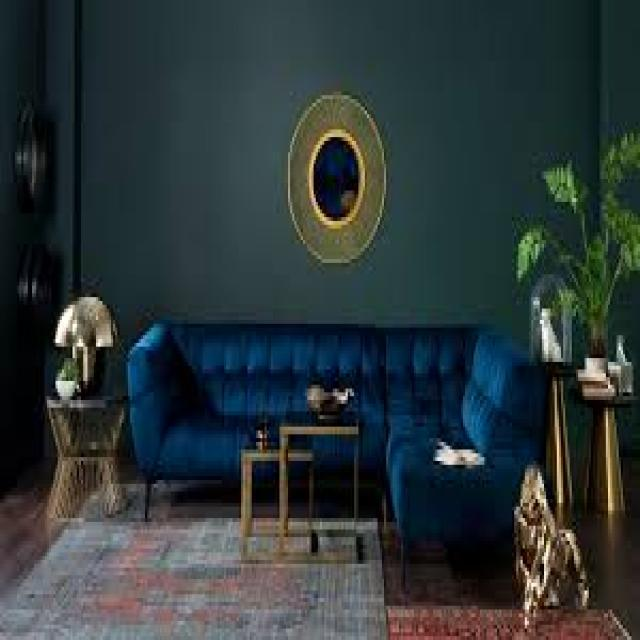Sofa: (128, 294, 556, 582)
Table: (232, 384, 374, 557)
